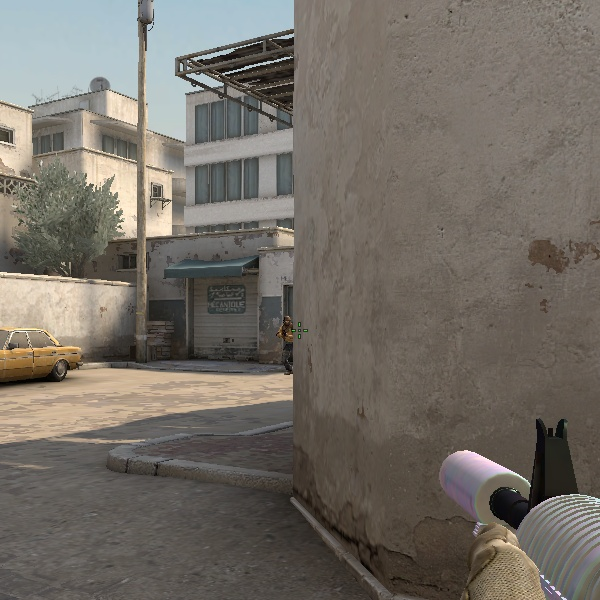t_body: (270, 312, 298, 374)
